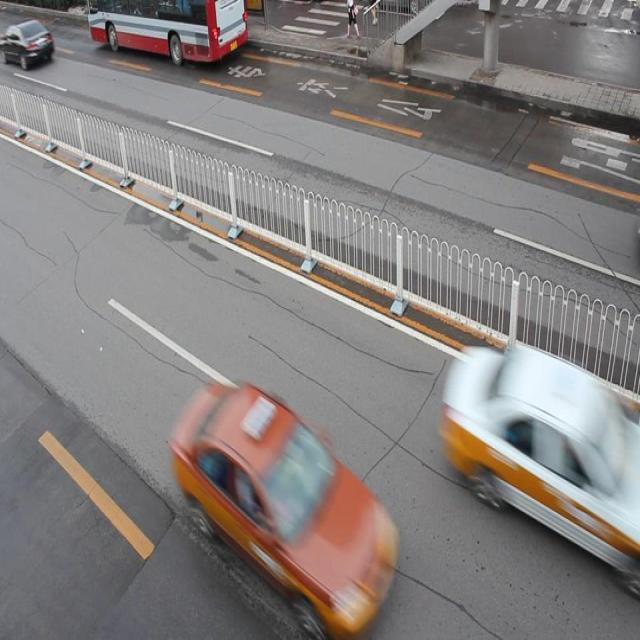car: (172, 379, 395, 640), (440, 341, 640, 585), (0, 18, 54, 71)
van: (88, 1, 247, 64)
